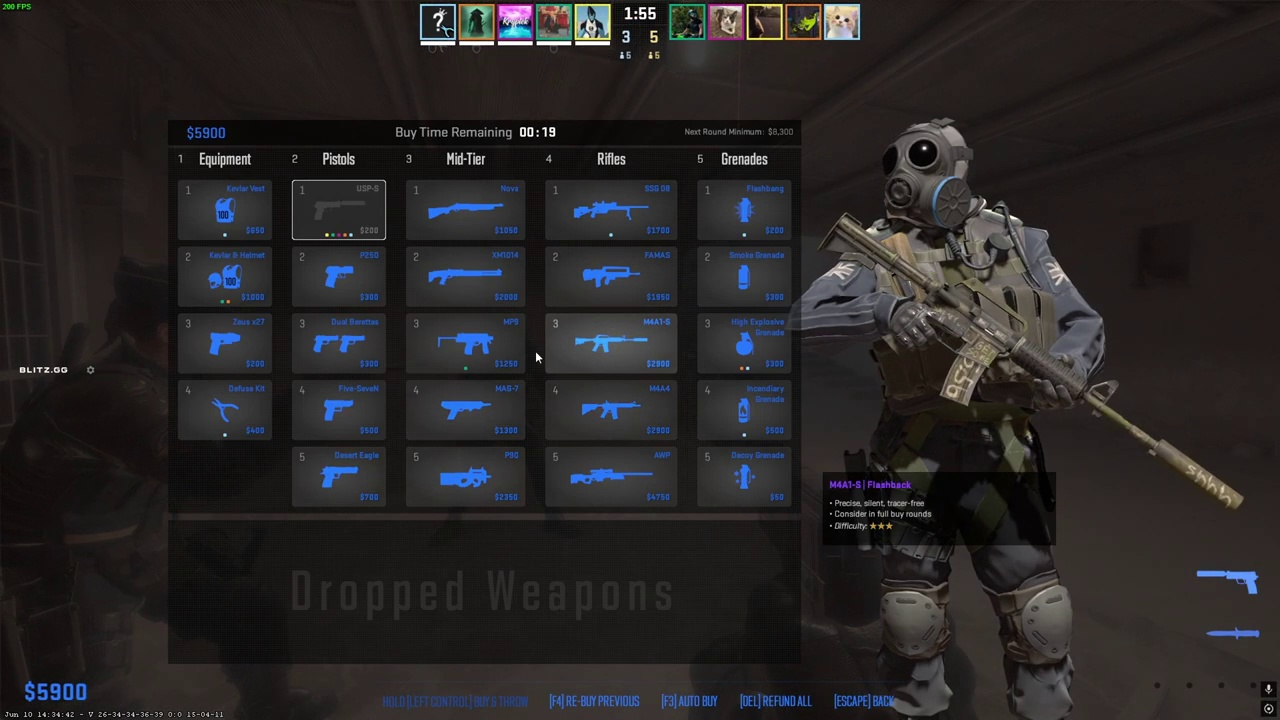CT: (853, 122, 1089, 720)
